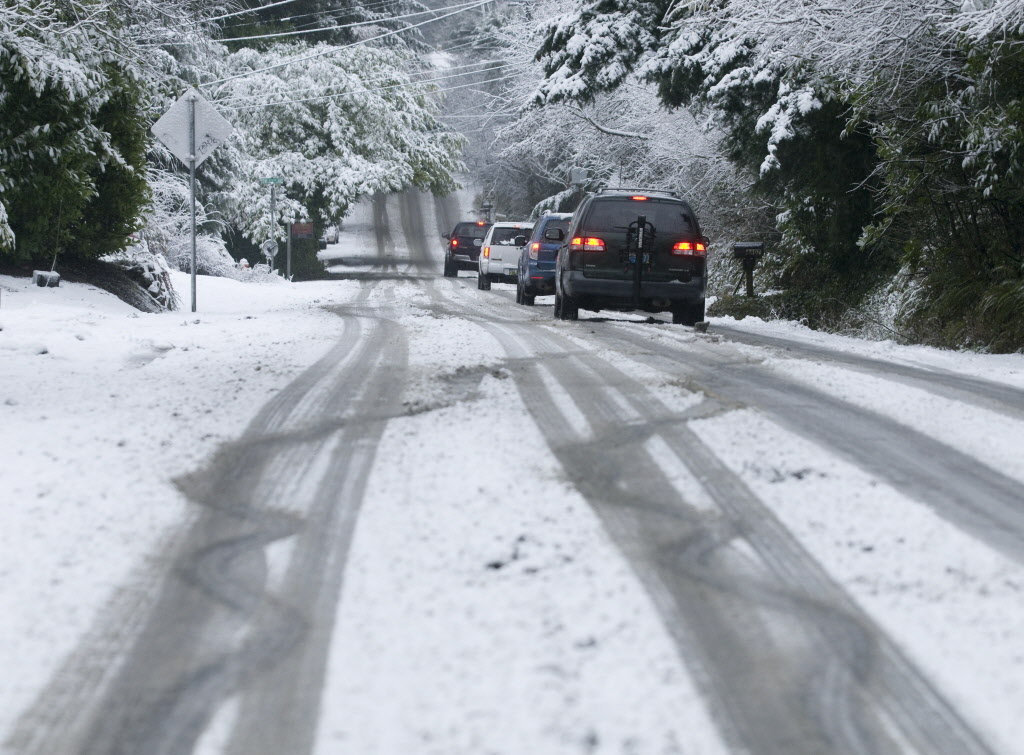car: (558, 191, 708, 331), (519, 218, 568, 311)
